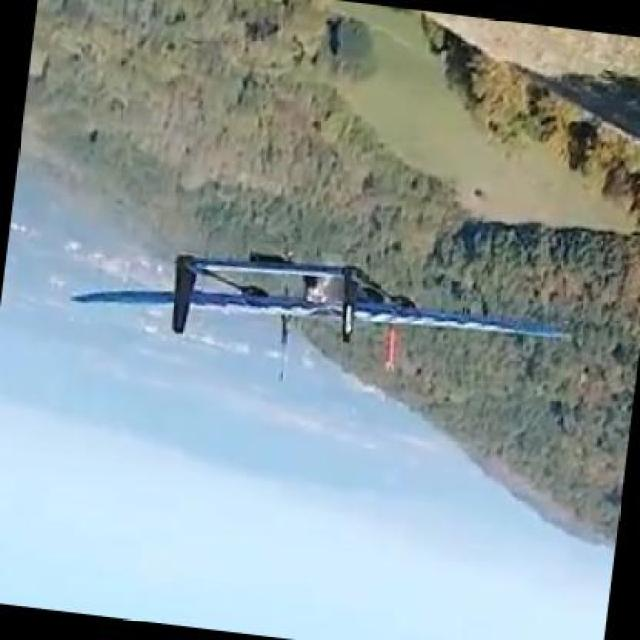iha: (66, 280, 580, 342)
